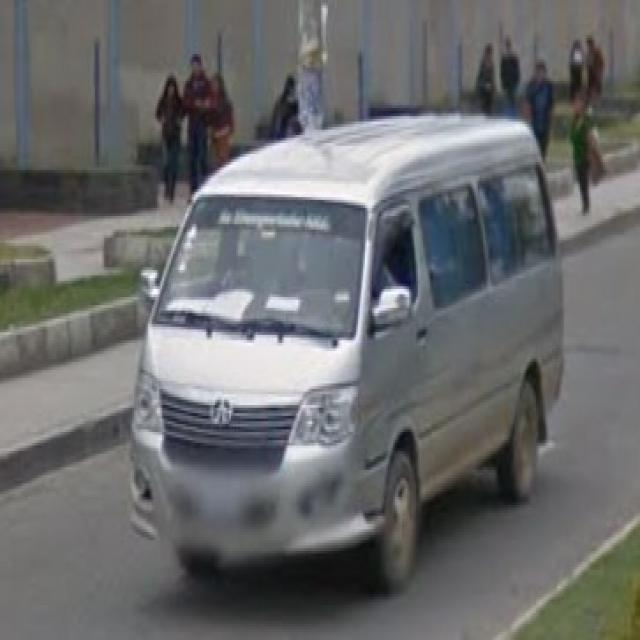cars: (124, 120, 569, 591)
